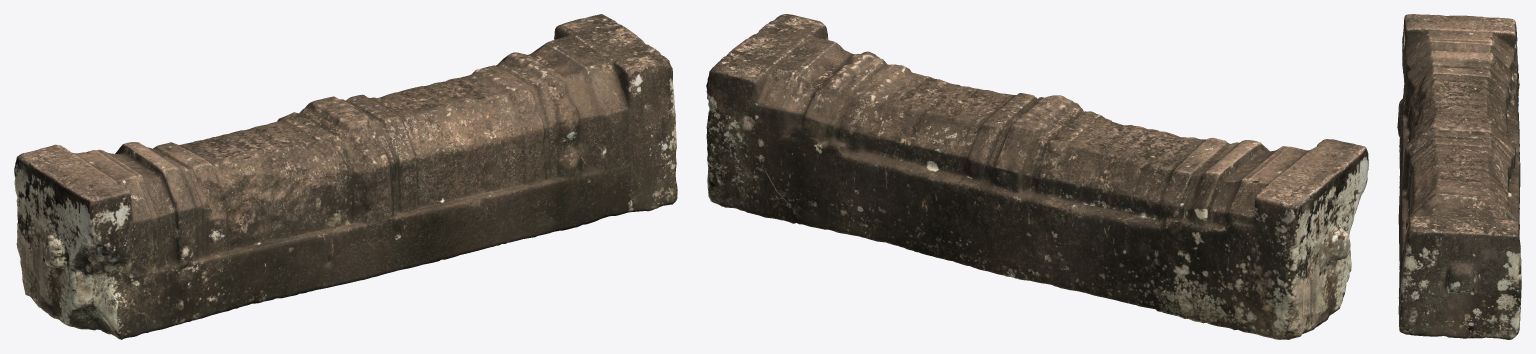
The model's file is 30_MysonSanctuaryD_Tru_final.glb.
The picture shows the model from 3 angles, left to right: view 1: azimuth 30°, elevation 25°; view 2: azimuth 150°, elevation 25°; view 3: azimuth 270°, elevation 25°; orthographic projection. The views are drawn at different scales.
Bounding box in the file's own units: 1.96 × 0.4521 × 0.4574.
Materials: 1 (1 with a texture image).
